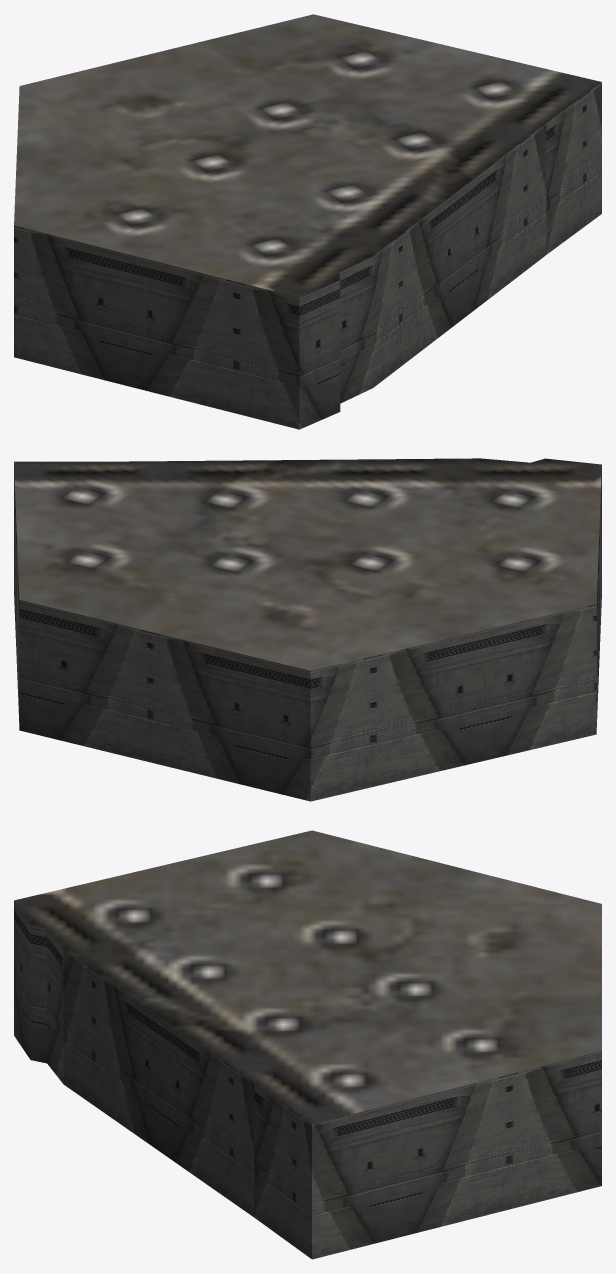
Rendered from fortress_medium_51.glb.
3 renders of one model, top to bottom at view 1: azimuth 30°, elevation 25°; view 2: azimuth 150°, elevation 25°; view 3: azimuth 270°, elevation 25°, orthographic. The views are drawn at different scales.
Visible parts, largest first — view 1: buildings/saxarba/fortress_medium/fortress_medium_51; view 2: buildings/saxarba/fortress_medium/fortress_medium_51; view 3: buildings/saxarba/fortress_medium/fortress_medium_51.
Boxes of the visible parts, bbox=[...] form: buildings/saxarba/fortress_medium/fortress_medium_51: bbox=[14, 14, 601, 429]; buildings/saxarba/fortress_medium/fortress_medium_51: bbox=[14, 458, 601, 801]; buildings/saxarba/fortress_medium/fortress_medium_51: bbox=[14, 830, 601, 1259].
Bounding box in the file's own units: 84 × 18 × 71.
